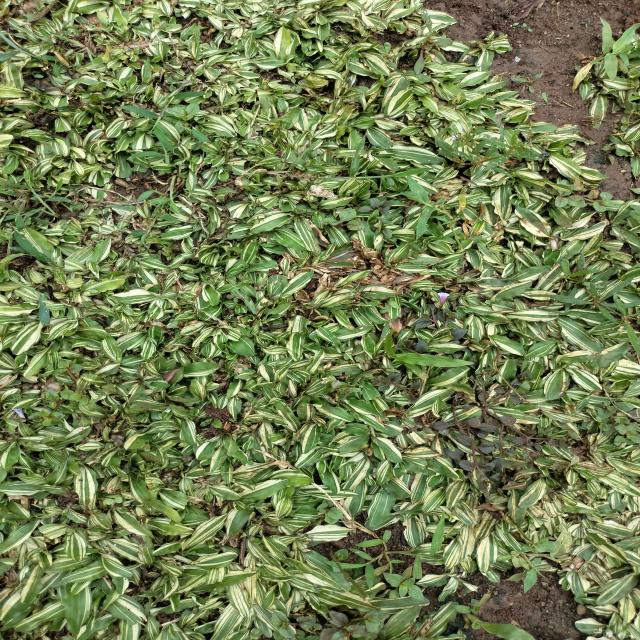gingseng jawa: (556, 254, 640, 354), (433, 122, 550, 174), (412, 5, 456, 77)
rambat atas: (336, 530, 448, 578), (592, 15, 640, 83), (116, 105, 176, 153), (402, 174, 454, 222), (14, 170, 61, 218), (137, 173, 182, 215), (509, 549, 548, 594), (344, 166, 436, 180), (44, 177, 76, 205), (260, 167, 310, 180)
rambat bawah: (386, 328, 476, 368)
tunggang besar: (381, 568, 428, 602)
ungu tunggang: (431, 369, 572, 489), (270, 609, 392, 639), (11, 388, 91, 428), (593, 398, 640, 448), (552, 178, 616, 214), (413, 292, 458, 330), (318, 206, 368, 232), (316, 496, 345, 526), (163, 102, 201, 123), (357, 197, 393, 217)
